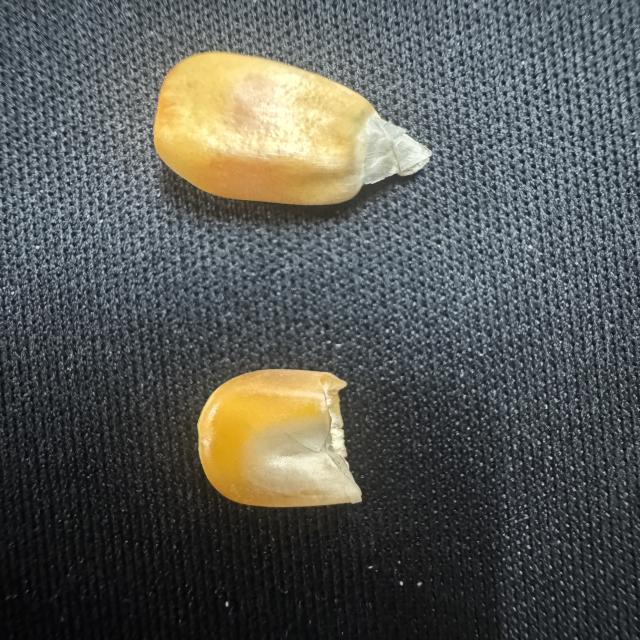Bad-Seed: (184, 364, 377, 516)
Good-Seed: (140, 44, 445, 218)
